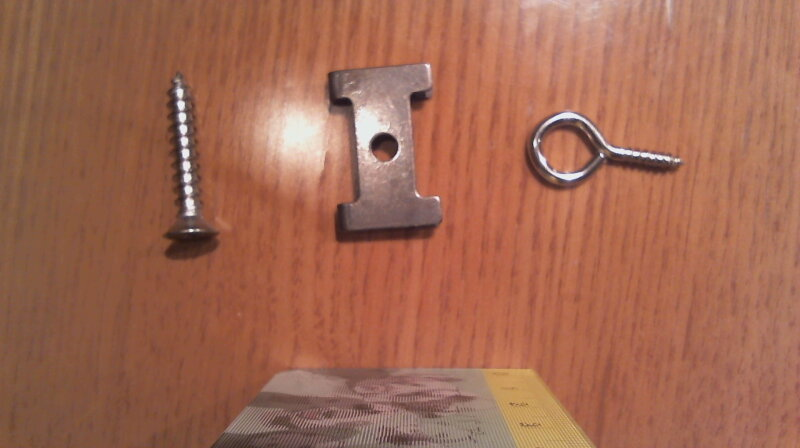O001: (523, 107, 688, 190)
O002: (324, 60, 445, 238)
S001: (153, 69, 229, 248)
